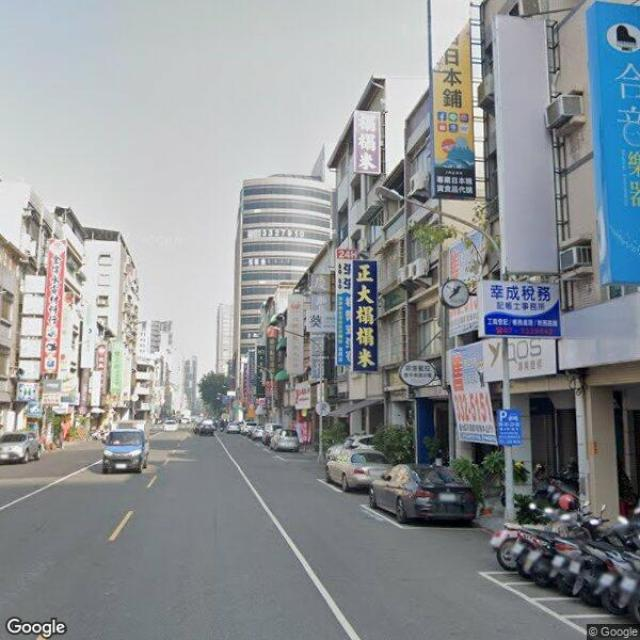Legalparking: (226, 407, 640, 640)
